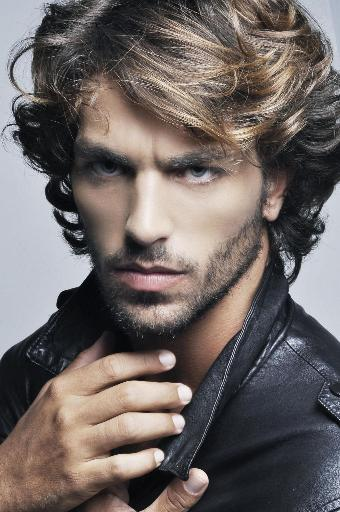left_eye: (172, 162, 229, 189)
left_lip_corner: (177, 266, 193, 287)
right_eye: (87, 159, 132, 185)
right_lip_corner: (112, 262, 127, 282)
